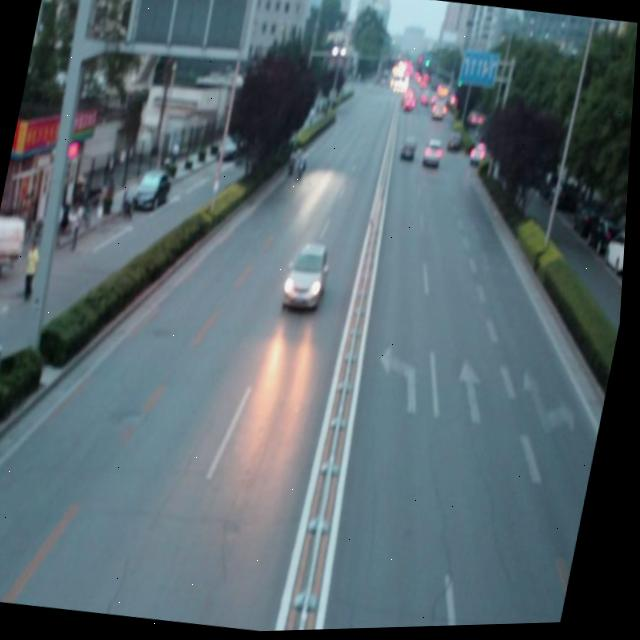car: (284, 243, 334, 313)
